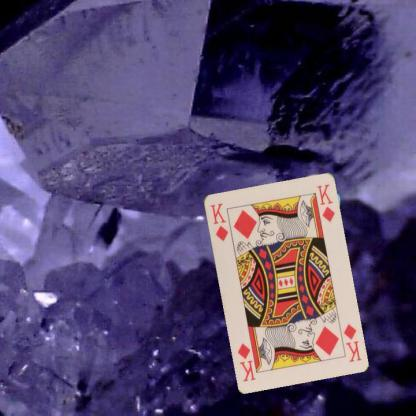Kd: (340, 320, 363, 364), (207, 200, 230, 242)
